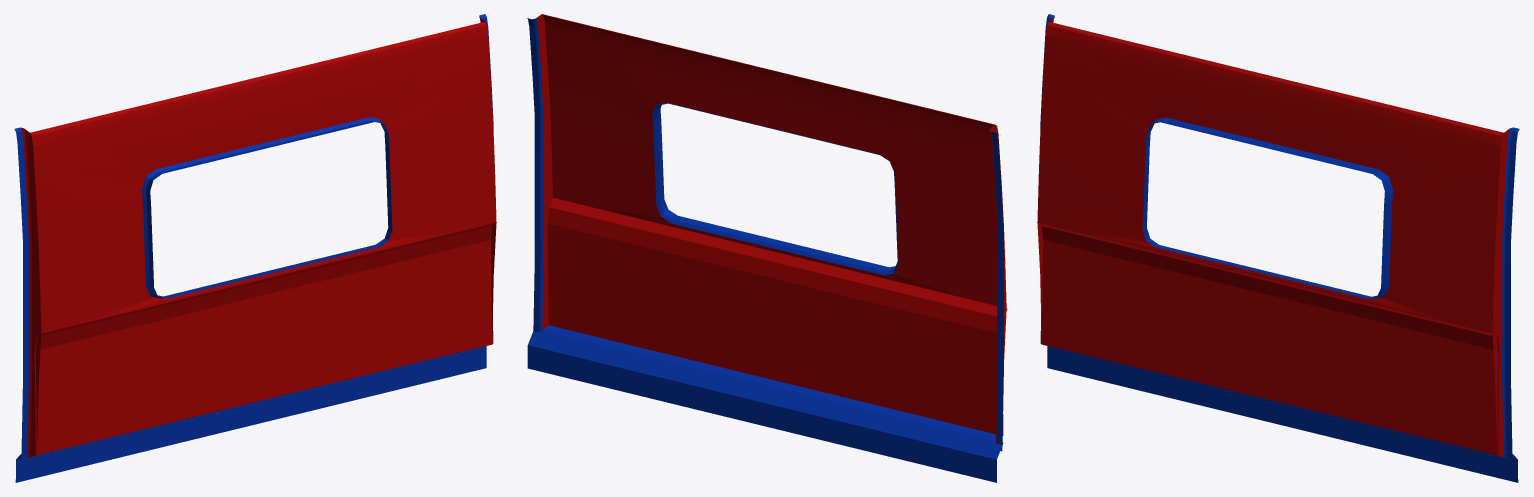
Rendered from Asset_murint_4x4_fenetre.fbx.
3 views of the same model, side by side, from view 1: azimuth 30°, elevation 25°; view 2: azimuth 150°, elevation 25°; view 3: azimuth 330°, elevation 25° (orthographic).
Parts seen in each view (by area): view 1: murint4x4_fenetre6; view 2: murint4x4_fenetre6; view 3: murint4x4_fenetre6.
Boxes of the visible parts, x1=… form: murint4x4_fenetre6: x1=14, y1=14, x2=496, y2=482; murint4x4_fenetre6: x1=527, y1=14, x2=1007, y2=482; murint4x4_fenetre6: x1=1037, y1=14, x2=1519, y2=482.
Bounding box in the file's own units: 400 × 286 × 34.34.
